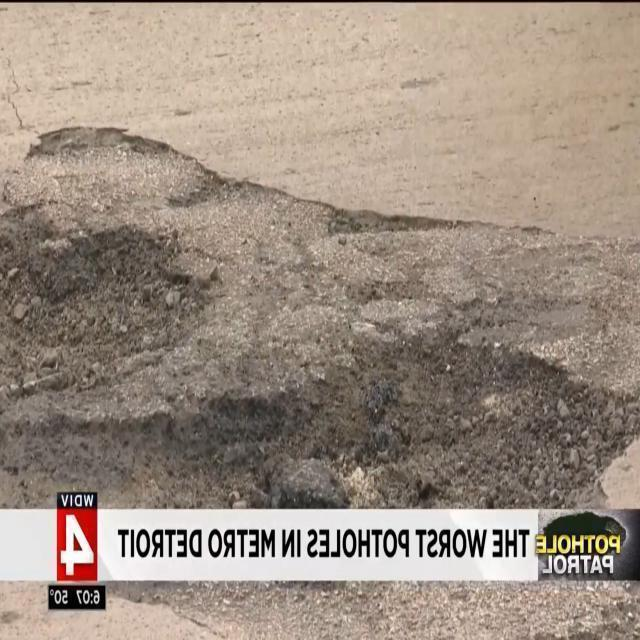Pothole: (7, 112, 632, 494)
